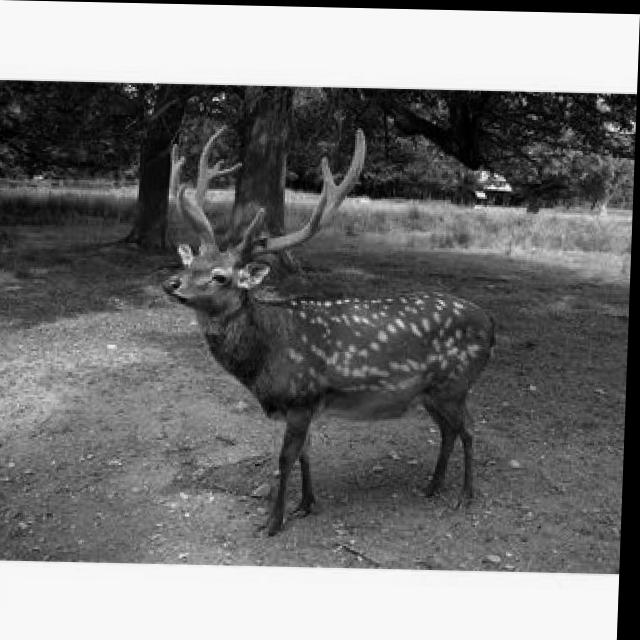Deer: (118, 136, 553, 544)
